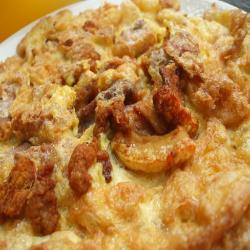omelette: (13, 29, 232, 221)
